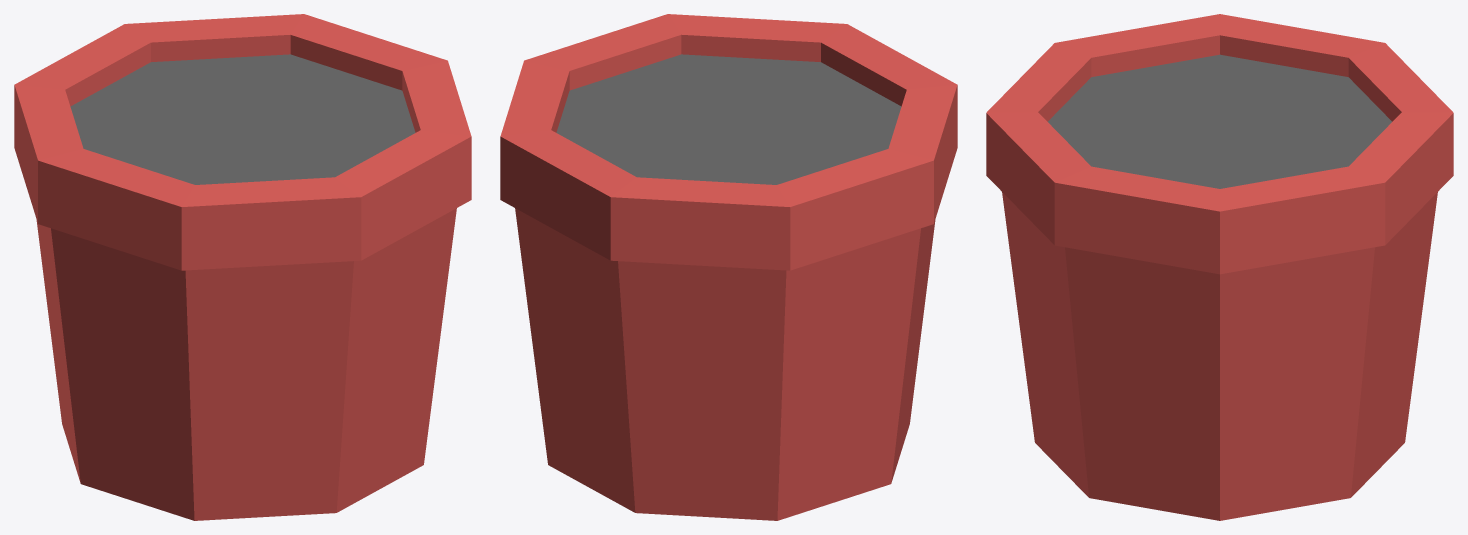
Rendered from tree200000.gltf.
3 views of the same model, side by side, from view 1: azimuth 30°, elevation 25°; view 2: azimuth 150°, elevation 25°; view 3: azimuth 270°, elevation 25° (orthographic).
Visible parts, largest first — view 1: Cylinder.001; view 2: Cylinder.001; view 3: Cylinder.001.
Boxes of the visible parts, x1,y1,x2,y2 form: Cylinder.001: (14, 14, 471, 520); Cylinder.001: (500, 14, 957, 520); Cylinder.001: (986, 14, 1453, 520).
Size of the model in its own units: 0.1667 by 0.1301 by 0.1667.
